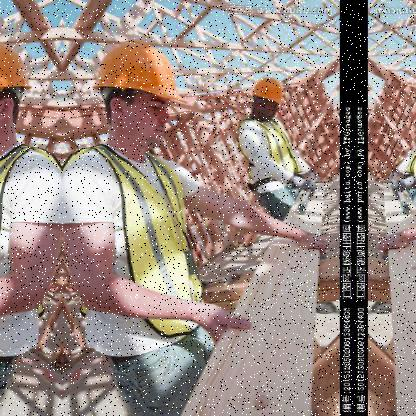Helmet: (96, 44, 192, 159), (0, 40, 39, 145), (248, 72, 287, 123)
